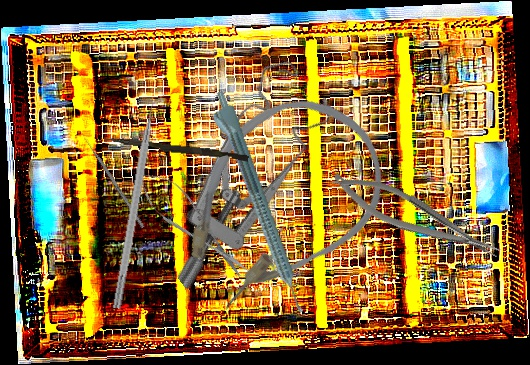Cannula: (140, 66, 414, 340)
Chopper: (111, 89, 172, 312)
Handpiece: (203, 89, 308, 319)
Micro Scissor: (127, 160, 259, 288)
Needle Holder: (325, 158, 505, 276)
Pusher: (80, 131, 145, 229), (102, 136, 250, 162)
Speculum: (107, 48, 370, 292)
